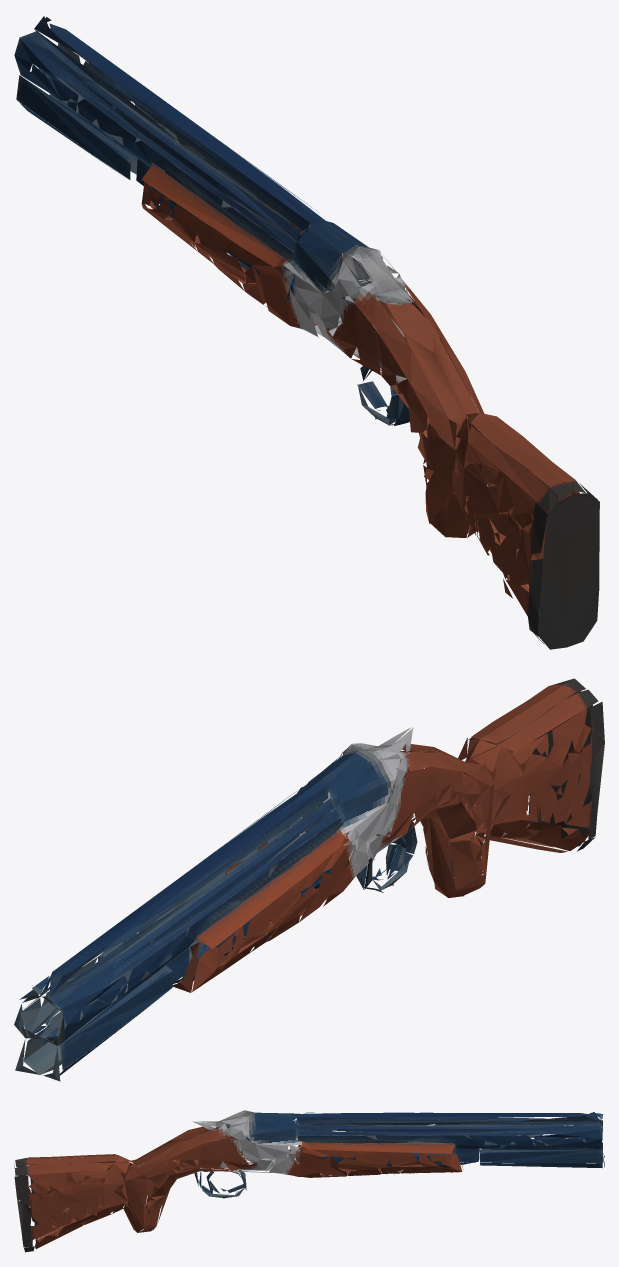
The model's file is shotgun.glb.
3 views of the same model, one above another, from view 1: azimuth 30°, elevation 25°; view 2: azimuth 150°, elevation 25°; view 3: azimuth 270°, elevation 25° (orthographic). The views are drawn at different scales.
Visible parts, largest first — view 1: geometry_0; view 2: geometry_0; view 3: geometry_0.
Boxes of the visible parts, box(x1,y1,x2,y2) form: geometry_0: box(14, 16, 599, 649); geometry_0: box(14, 678, 604, 1081); geometry_0: box(14, 1110, 604, 1252).
Bounding box in the file's own units: 0.0807 × 0.26 × 1.
1 material, 1 textured.
